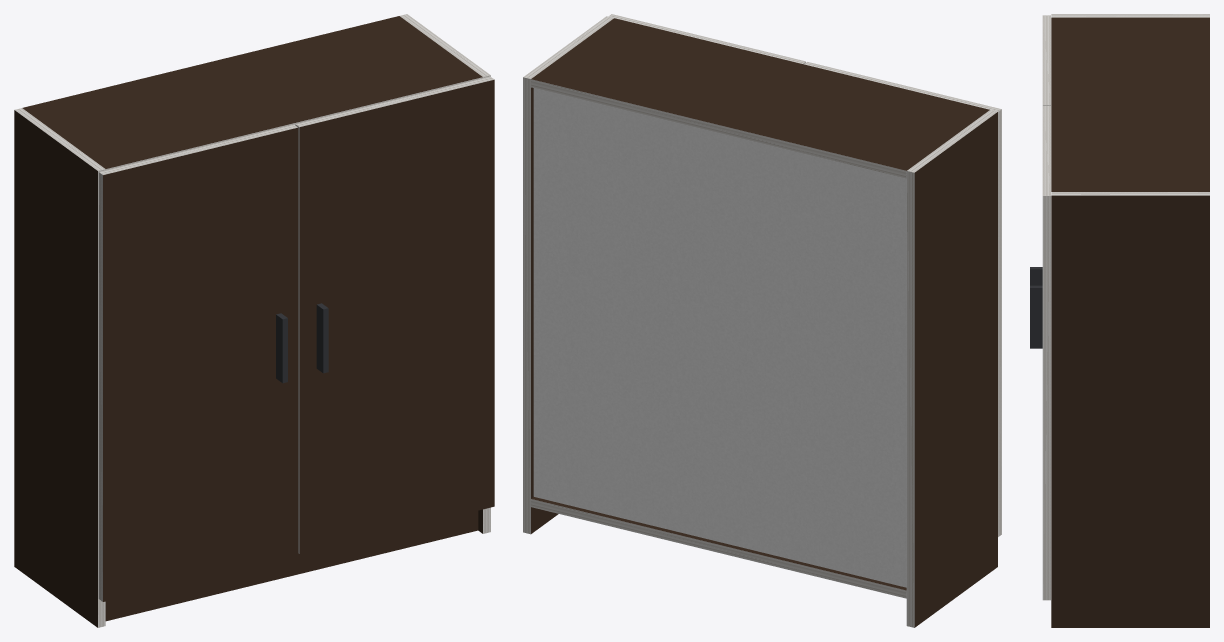
The model's file is BIB-SHO-std.glb.
3 views of the same model, side by side, from view 1: azimuth 30°, elevation 25°; view 2: azimuth 150°, elevation 25°; view 3: azimuth 270°, elevation 25° (orthographic). The views are drawn at different scales.
Parts seen in each view (by area): view 1: door-r:pbr, door-l:pbr, side-l:pbr, top:pbr, plinth:pbr, door-l:sheet:eyJtIjoicGx5Iiwic2lkZSI6ImVkZ2UtbG9uZyIsInNlZWQ, pull, door-l:sheet:eyJtIjoicGx5Iiwic2lkZSI6ImVkZ2UtZW5kIiwic2VlZCI, door-r:sheet:eyJtIjoicGx5Iiwic2lkZSI6ImVkZ2UtZW5kIiwic2VlZCI, door-r:sheet:eyJtIjoicGx5Iiwic2lkZSI6ImVkZ2UtbG9uZyIsInNlZWQ, side-l:sheet:eyJtIjoicGx5Iiwic2lkZSI6ImVkZ2UtZW5kIiwic2VlZCI, side-r:sheet:eyJtIjoicGx5Iiwic2lkZSI6ImVkZ2UtZW5kIiwic2VlZCI (+2 smaller); view 2: back:sheet:eyJtIjoibWRmIiwic2lkZSI6ImZhY2UiLCJzZWVkIjoxLCJ0a, side-l:pbr, top:pbr, side-l:sheet:eyJtIjoicGx5Iiwic2lkZSI6ImVkZ2UtbG9uZyIsInNlZWQ, side-r:sheet:eyJtIjoicGx5Iiwic2lkZSI6ImVkZ2UtbG9uZyIsInNlZWQ, top:sheet:eyJtIjoicGx5Iiwic2lkZSI6ImVkZ2UtbG9uZyIsInNlZWQiOj, bottom:sheet:eyJtIjoicGx5Iiwic2lkZSI6ImVkZ2UtbG9uZyIsInNlZWQ, door-l:sheet:eyJtIjoicGx5Iiwic2lkZSI6ImVkZ2UtbG9uZyIsInNlZWQ, side-r:pbr, bottom:pbr, door-l:sheet:eyJtIjoicGx5Iiwic2lkZSI6ImVkZ2UtZW5kIiwic2VlZCI, door-r:sheet:eyJtIjoicGx5Iiwic2lkZSI6ImVkZ2UtZW5kIiwic2VlZCI (+2 smaller); view 3: side-r:pbr, top:pbr, door-r:sheet:eyJtIjoicGx5Iiwic2lkZSI6ImVkZ2UtbG9uZyIsInNlZWQ, pull, door-l:sheet:eyJtIjoicGx5Iiwic2lkZSI6ImVkZ2UtZW5kIiwic2VlZCI, door-r:sheet:eyJtIjoicGx5Iiwic2lkZSI6ImVkZ2UtZW5kIiwic2VlZCI, side-l:sheet:eyJtIjoicGx5Iiwic2lkZSI6ImVkZ2UtZW5kIiwic2VlZCI, side-r:sheet:eyJtIjoicGx5Iiwic2lkZSI6ImVkZ2UtZW5kIiwic2VlZCI.
Part boxes in pixels (left/top/right/bottom): door-r:pbr: left=299, top=79, right=494, bottom=553; door-l:pbr: left=103, top=127, right=298, bottom=601; side-l:pbr: left=14, top=110, right=97, bottom=627; top:pbr: left=22, top=16, right=482, bottom=168; plinth:pbr: left=105, top=510, right=478, bottom=621; door-l:sheet:eyJtIjoicGx5Iiwic2lkZSI6ImVkZ2UtbG9uZyIsInNlZWQ: left=98, top=172, right=102, bottom=601; pull: left=276, top=303, right=328, bottom=383; door-l:sheet:eyJtIjoicGx5Iiwic2lkZSI6ImVkZ2UtZW5kIiwic2VlZCI: left=99, top=124, right=297, bottom=174; door-r:sheet:eyJtIjoicGx5Iiwic2lkZSI6ImVkZ2UtZW5kIiwic2VlZCI: left=295, top=76, right=494, bottom=127; door-r:sheet:eyJtIjoicGx5Iiwic2lkZSI6ImVkZ2UtbG9uZyIsInNlZWQ: left=295, top=124, right=299, bottom=553; side-l:sheet:eyJtIjoicGx5Iiwic2lkZSI6ImVkZ2UtZW5kIiwic2VlZCI: left=14, top=108, right=105, bottom=170; side-r:sheet:eyJtIjoicGx5Iiwic2lkZSI6ImVkZ2UtZW5kIiwic2VlZCI: left=400, top=14, right=490, bottom=76; back:sheet:eyJtIjoibWRmIiwic2lkZSI6ImZhY2UiLCJzZWVkIjoxLCJ0a: left=533, top=88, right=906, bottom=587; side-l:pbr: left=914, top=112, right=997, bottom=627; top:pbr: left=531, top=18, right=989, bottom=170; side-l:sheet:eyJtIjoicGx5Iiwic2lkZSI6ImVkZ2UtbG9uZyIsInNlZWQ: left=906, top=171, right=914, bottom=627; side-r:sheet:eyJtIjoicGx5Iiwic2lkZSI6ImVkZ2UtbG9uZyIsInNlZWQ: left=523, top=77, right=530, bottom=534; top:sheet:eyJtIjoicGx5Iiwic2lkZSI6ImVkZ2UtbG9uZyIsInNlZWQiOj: left=531, top=79, right=906, bottom=178; bottom:sheet:eyJtIjoicGx5Iiwic2lkZSI6ImVkZ2UtbG9uZyIsInNlZWQ: left=531, top=499, right=906, bottom=598; door-l:sheet:eyJtIjoicGx5Iiwic2lkZSI6ImVkZ2UtbG9uZyIsInNlZWQ: left=998, top=109, right=1001, bottom=536; side-r:pbr: left=531, top=87, right=558, bottom=533; bottom:pbr: left=531, top=497, right=906, bottom=590; door-l:sheet:eyJtIjoicGx5Iiwic2lkZSI6ImVkZ2UtZW5kIiwic2VlZCI: left=804, top=62, right=1001, bottom=111; door-r:sheet:eyJtIjoicGx5Iiwic2lkZSI6ImVkZ2UtZW5kIiwic2VlZCI: left=608, top=14, right=805, bottom=63; side-r:pbr: left=1051, top=195, right=1209, bottom=627; top:pbr: left=1051, top=17, right=1209, bottom=191; door-r:sheet:eyJtIjoicGx5Iiwic2lkZSI6ImVkZ2UtbG9uZyIsInNlZWQ: left=1042, top=196, right=1050, bottom=600; pull: left=1030, top=267, right=1042, bottom=348; door-l:sheet:eyJtIjoicGx5Iiwic2lkZSI6ImVkZ2UtZW5kIiwic2VlZCI: left=1042, top=15, right=1050, bottom=105; door-r:sheet:eyJtIjoicGx5Iiwic2lkZSI6ImVkZ2UtZW5kIiwic2VlZCI: left=1042, top=106, right=1050, bottom=195; side-l:sheet:eyJtIjoicGx5Iiwic2lkZSI6ImVkZ2UtZW5kIiwic2VlZCI: left=1051, top=14, right=1209, bottom=17; side-r:sheet:eyJtIjoicGx5Iiwic2lkZSI6ImVkZ2UtZW5kIiwic2VlZCI: left=1051, top=192, right=1209, bottom=195.
Bounding box in the file's own units: 0.9 × 1 × 0.3766.
Materials: 34 (23 with a texture image).
